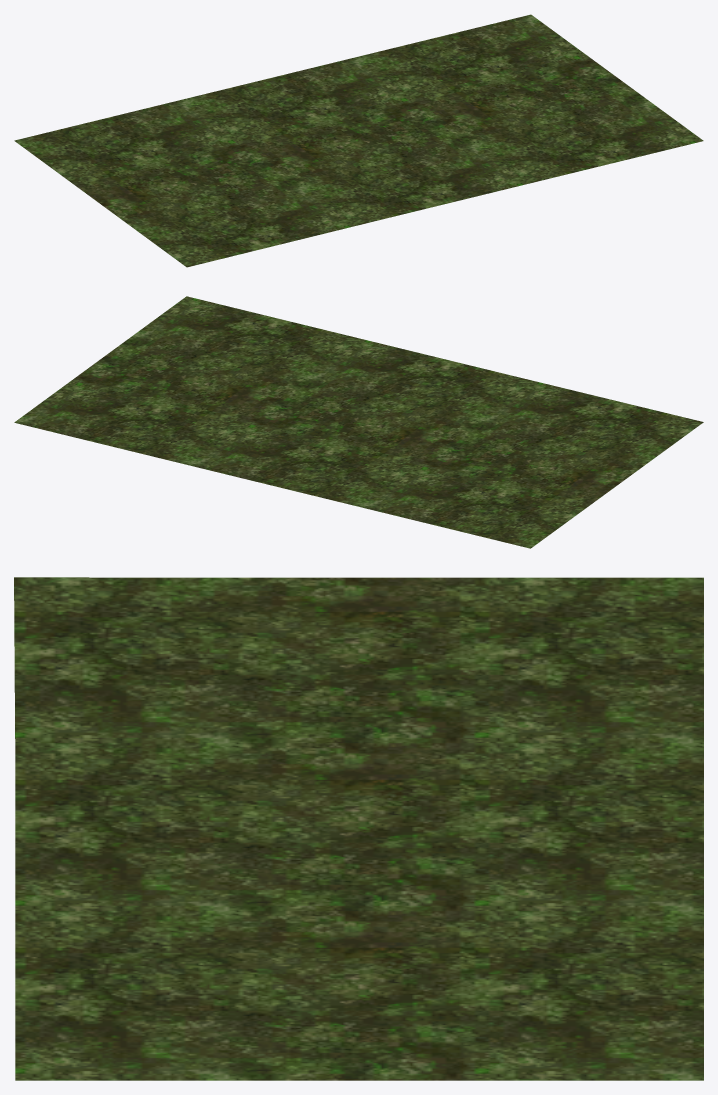
File: OVERHILL_A_01_LINE166.fbx
3 views of the same model, one above another, from view 1: azimuth 30°, elevation 25°; view 2: azimuth 150°, elevation 25°; view 3: azimuth 270°, elevation 25° (orthographic). The views are drawn at different scales.
Visible parts, largest first — view 1: OVERHILL_A_01_LINE166; view 2: OVERHILL_A_01_LINE166; view 3: OVERHILL_A_01_LINE166.
Boxes of the visible parts, x1,y1,x2,y2 form: OVERHILL_A_01_LINE166: (14,14,703,267); OVERHILL_A_01_LINE166: (14,296,703,548); OVERHILL_A_01_LINE166: (14,577,703,1080).
Size of the model in its own units: 80001 by 0.0381 by 46374.
Materials: 1 (1 with a texture image).
